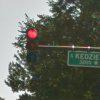Traffic light: (18, 19, 44, 68)
